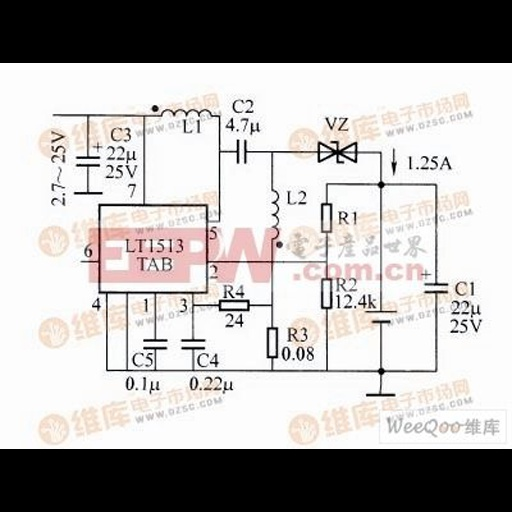capacitor: (230, 135, 254, 165), (140, 337, 172, 352), (179, 335, 207, 352)
firstpolarcapacitor: (414, 269, 451, 297), (73, 142, 103, 173)
firstresistance: (316, 274, 334, 314), (261, 324, 280, 361), (317, 197, 335, 236), (214, 298, 257, 313)
inductor: (266, 185, 284, 240), (159, 105, 214, 119)
